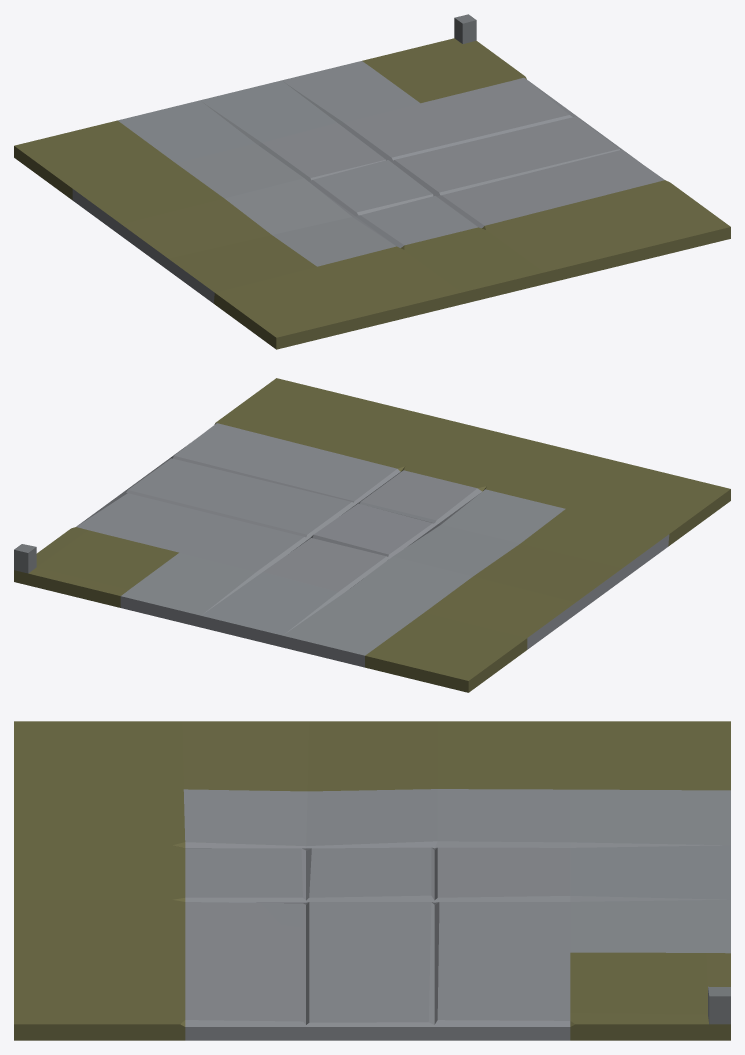
Rendered from Road_012-col.glb.
3 views of the same model, one above another, from view 1: azimuth 30°, elevation 25°; view 2: azimuth 150°, elevation 25°; view 3: azimuth 270°, elevation 25° (orthographic). The views are drawn at different scales.
Parts seen in each view (by area): view 1: Sidewalk_02_B-col; view 2: Sidewalk_02_B-col; view 3: Sidewalk_02_B-col.
Boxes of the visible parts, left/top/right/bottom form: Sidewalk_02_B-col: left=14, top=14, right=730, bottom=349; Sidewalk_02_B-col: left=14, top=378, right=730, bottom=692; Sidewalk_02_B-col: left=14, top=721, right=730, bottom=1040.
Bounding box in the file's own units: 2 × 0.1367 × 2.
1 material, 1 textured.
